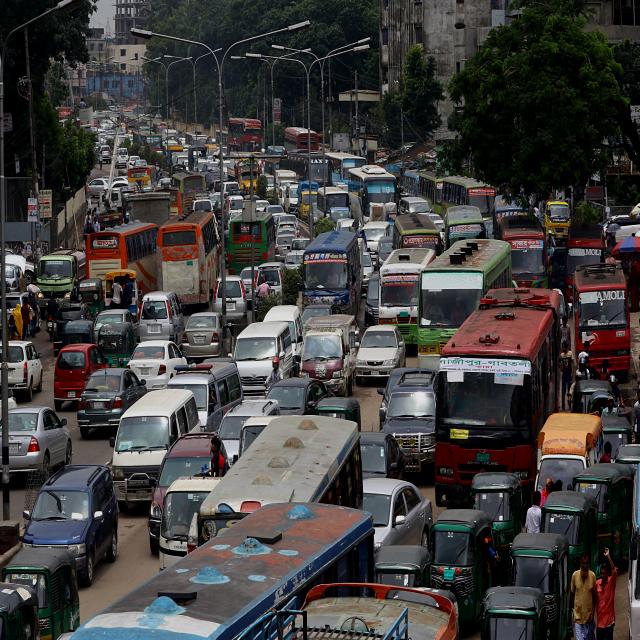black: (73, 370, 147, 432), (53, 302, 92, 354)
blue: (12, 461, 124, 586), (384, 366, 439, 480)
maroon: (152, 433, 230, 555)
red: (55, 342, 112, 407)
silver: (0, 406, 75, 479), (168, 360, 244, 432), (230, 323, 293, 400), (134, 291, 185, 352), (180, 311, 232, 364), (212, 275, 248, 326)
white: (345, 477, 434, 604), (111, 390, 201, 514), (128, 341, 191, 395), (0, 336, 43, 403), (357, 326, 406, 382)
